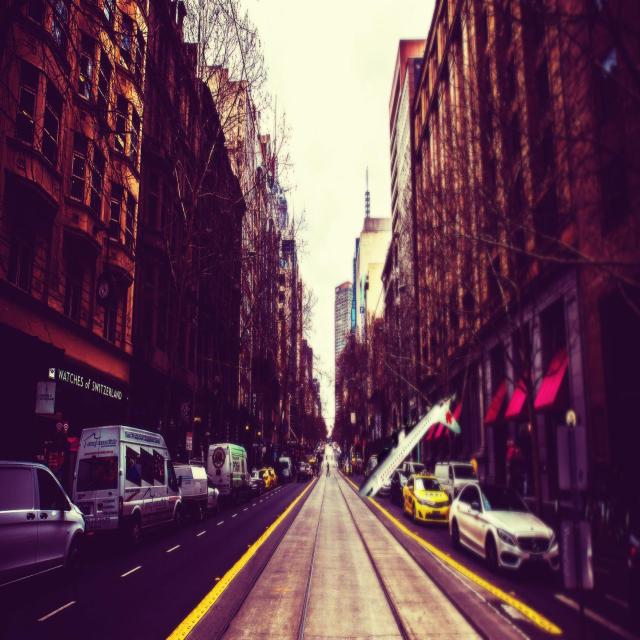airplane: (358, 391, 460, 498)
